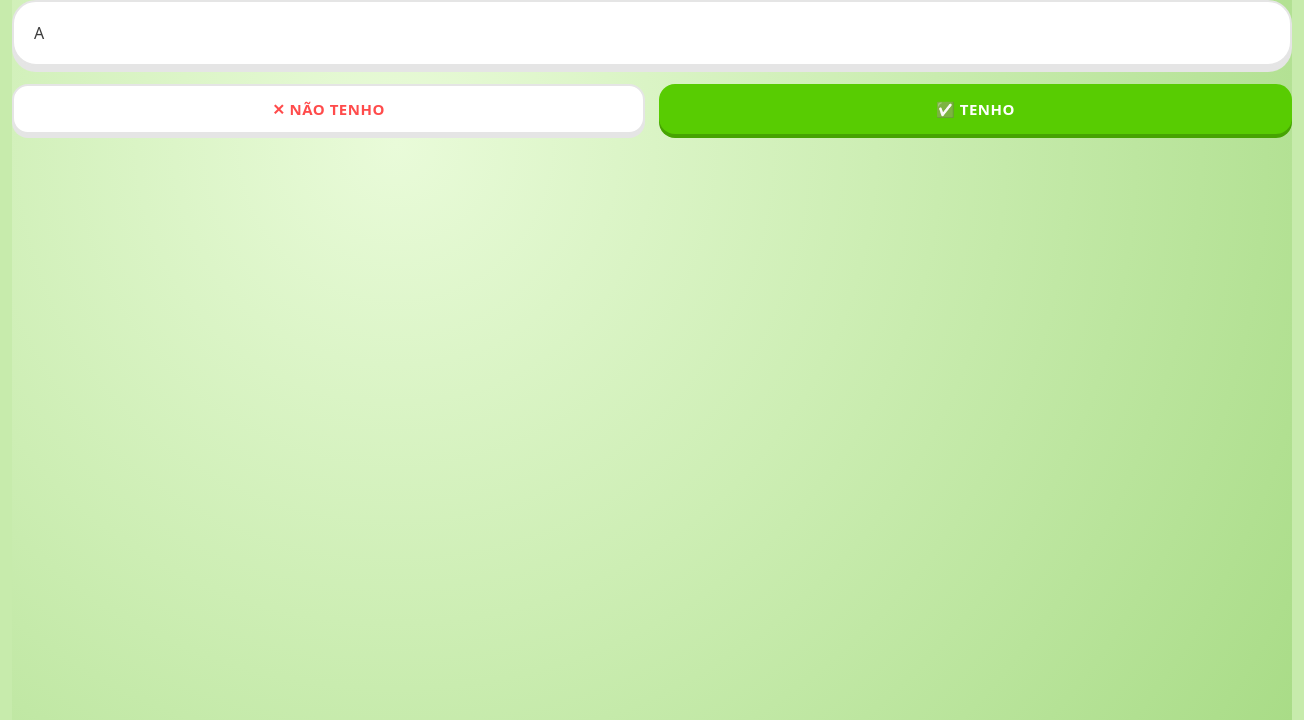
Test: SwipeCard lock (ONB-07) › buttons are disabled while the card exits
Click the button "✅ Tenho" at (976, 109), box [659, 84, 1292, 134]
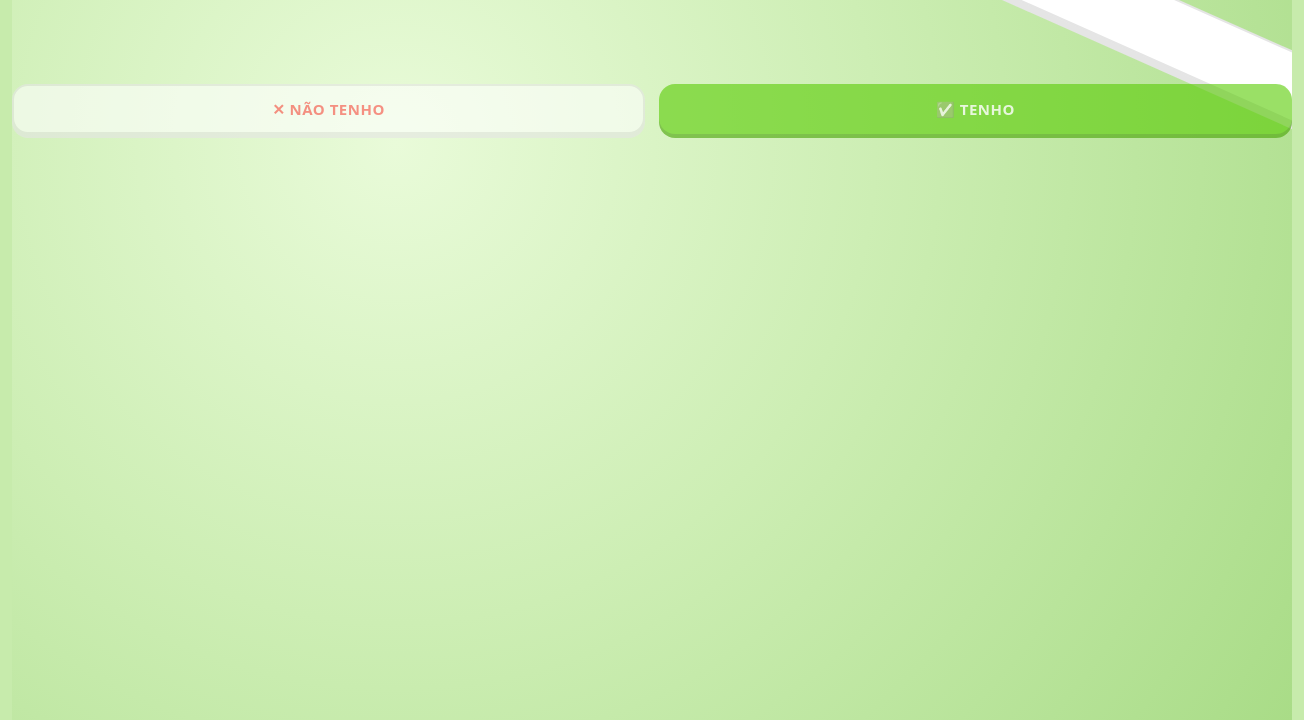
Now the button "✕ Não tenho" is disabled, box [12, 84, 645, 134]
Now the button "✅ Tenho" is disabled, box [659, 84, 1292, 134]
